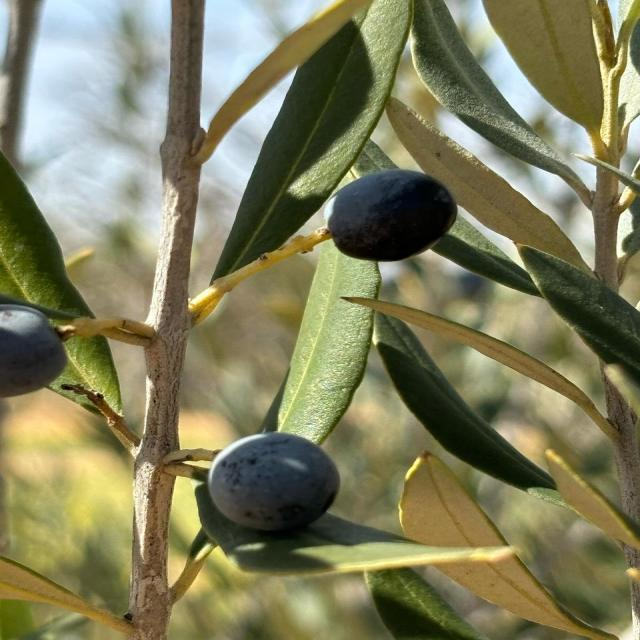Healthy: (196, 432, 339, 534), (326, 168, 457, 262)
